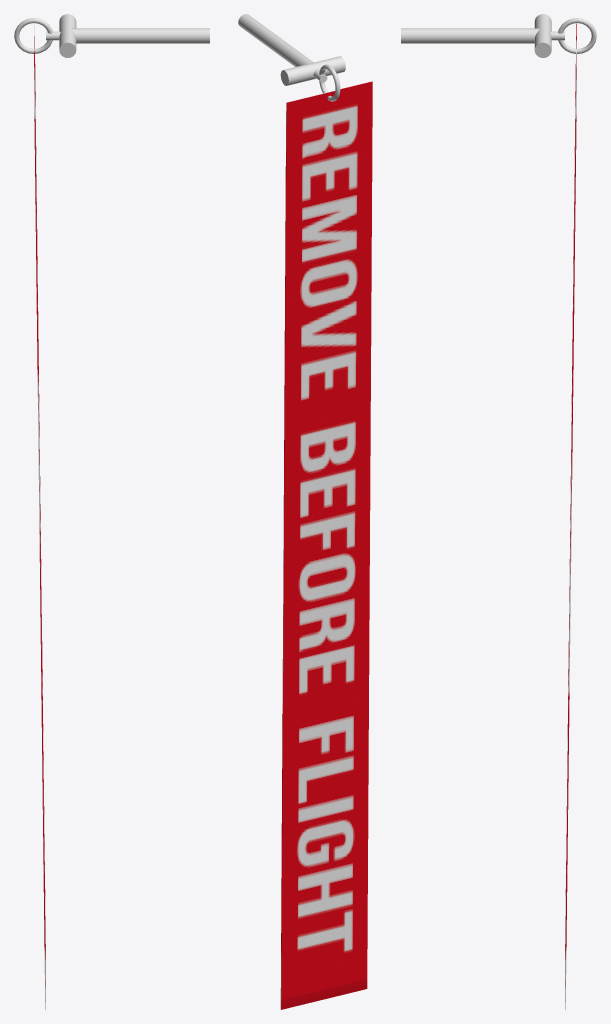
File: PIN_SAFE.fbx
3 renders of one model, left to right at view 1: azimuth 90°, elevation 25°; view 2: azimuth 210°, elevation 25°; view 3: azimuth 270°, elevation 25°, orthographic. The views are drawn at different scales.
Visible parts, largest first — view 1: PIN_SAFE, pCube604, pTorus1; view 2: pCube604, PIN_SAFE, pTorus1; view 3: PIN_SAFE, pCube604, pTorus1.
Part boxes in pixels (x1,y1,x2,y2): PIN_SAFE: [59, 14, 209, 57]; pCube604: [34, 23, 45, 1009]; pTorus1: [14, 18, 52, 53]; pCube604: [280, 81, 372, 1009]; PIN_SAFE: [238, 14, 345, 85]; pTorus1: [319, 64, 340, 101]; PIN_SAFE: [401, 14, 551, 57]; pCube604: [565, 23, 576, 1009]; pTorus1: [558, 18, 596, 53].
Bounding box in the file's own units: 6 × 62.4 × 11.41.
